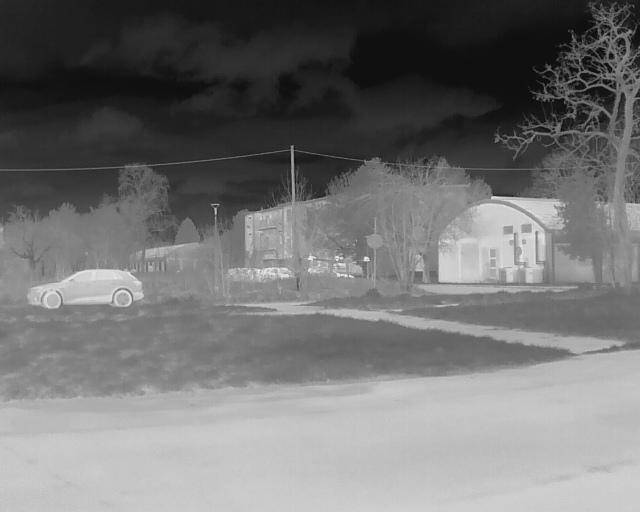drone: (296, 245, 381, 290)
